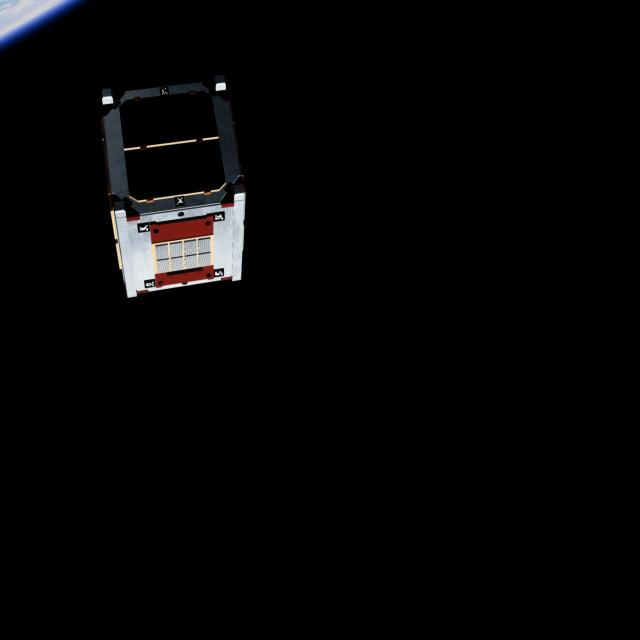medium_debris: (99, 72, 251, 295)
